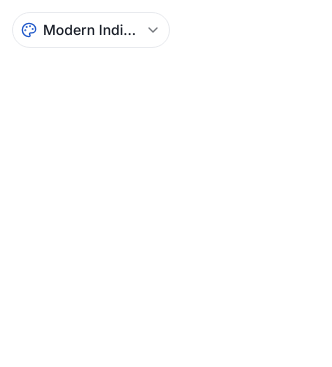
Scenario: color theme + section designs › switches the whole-resume color theme from the topbar switcher
The width and height of the screenshot is (332, 367).
Click the button "Modern Indigo": (91,30) [12,12,170,48]
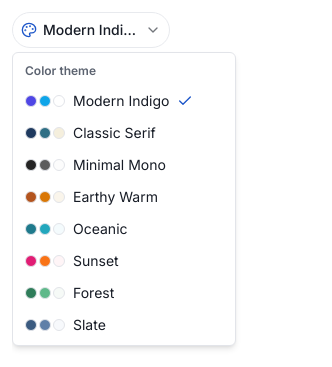
Click the menu item "Minimal Mono": (95,164) [25,156,166,173]
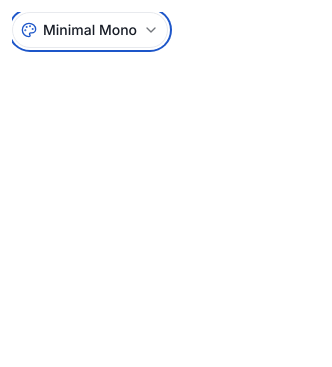
Expected: the button "Minimal Mono" is shown, [12,12,168,48]
